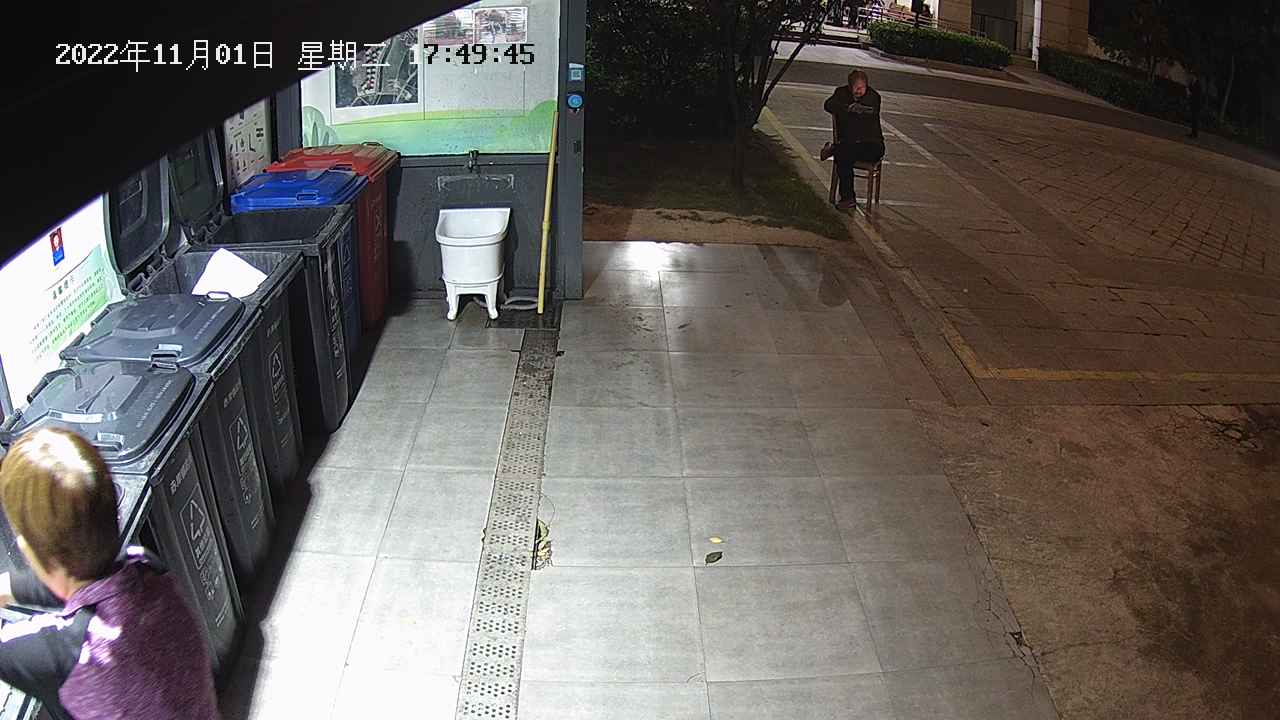person: (1, 422, 222, 720), (818, 69, 886, 213)
